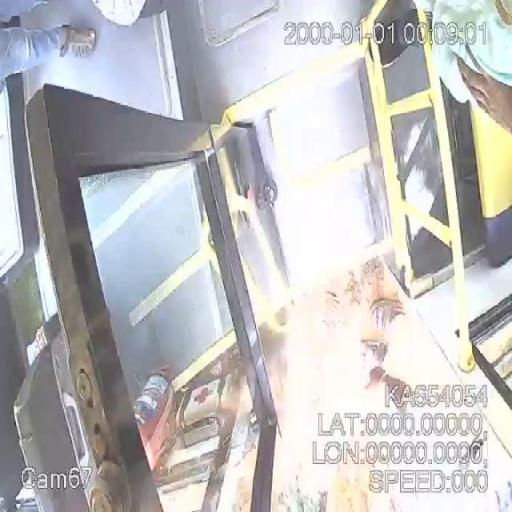persona: (413, 0, 511, 136)
